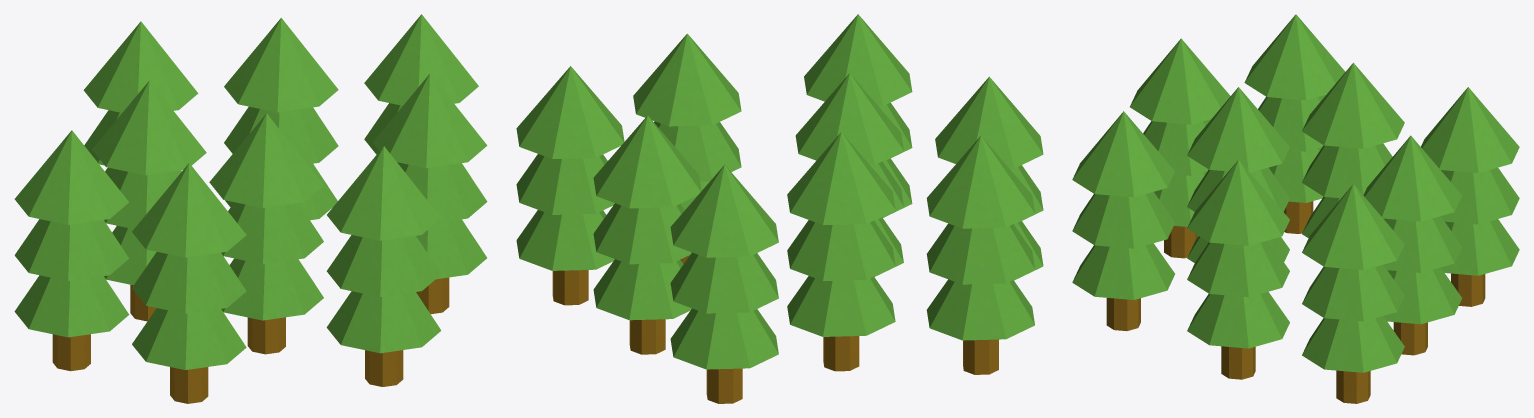
Rendered from tree_forest_combined.glb.
3 views of the same model, side by side, from view 1: azimuth 30°, elevation 25°; view 2: azimuth 150°, elevation 25°; view 3: azimuth 270°, elevation 25° (orthographic). The views are drawn at different scales.
Parts seen in each view (by area): view 1: Forest; view 2: Forest; view 3: Forest.
Part boxes in pixels (x1,y1,x2,y2): Forest: (14, 14, 487, 403); Forest: (516, 14, 1043, 403); Forest: (1072, 14, 1519, 403).
Bounding box in the file's own units: 0.8796 × 0.4092 × 0.7796.
Materials: 2 (2 with a texture image).
